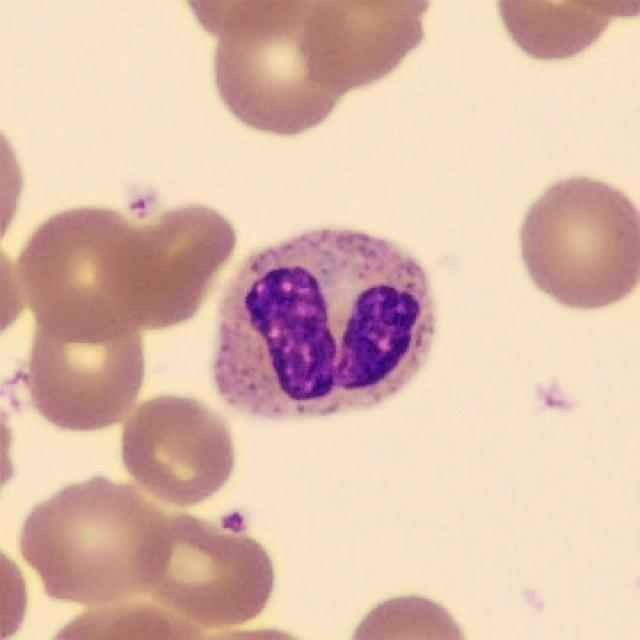Neutrofilo segmentado: (210, 229, 437, 423)
